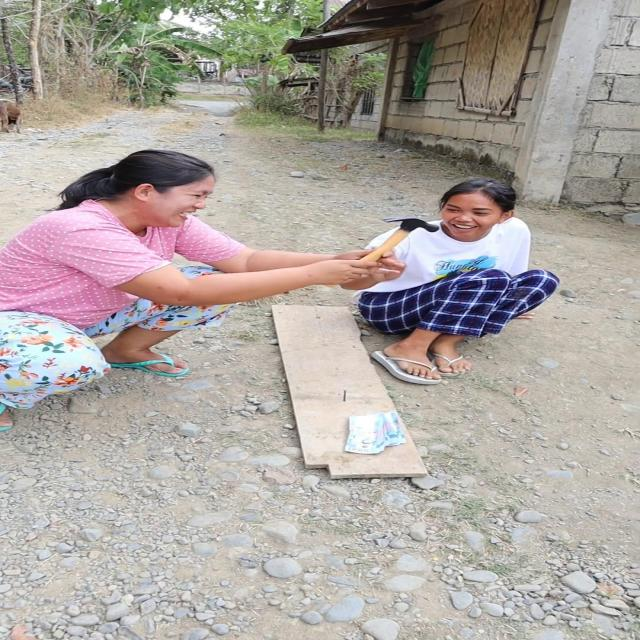hammer: (352, 216, 444, 270)
